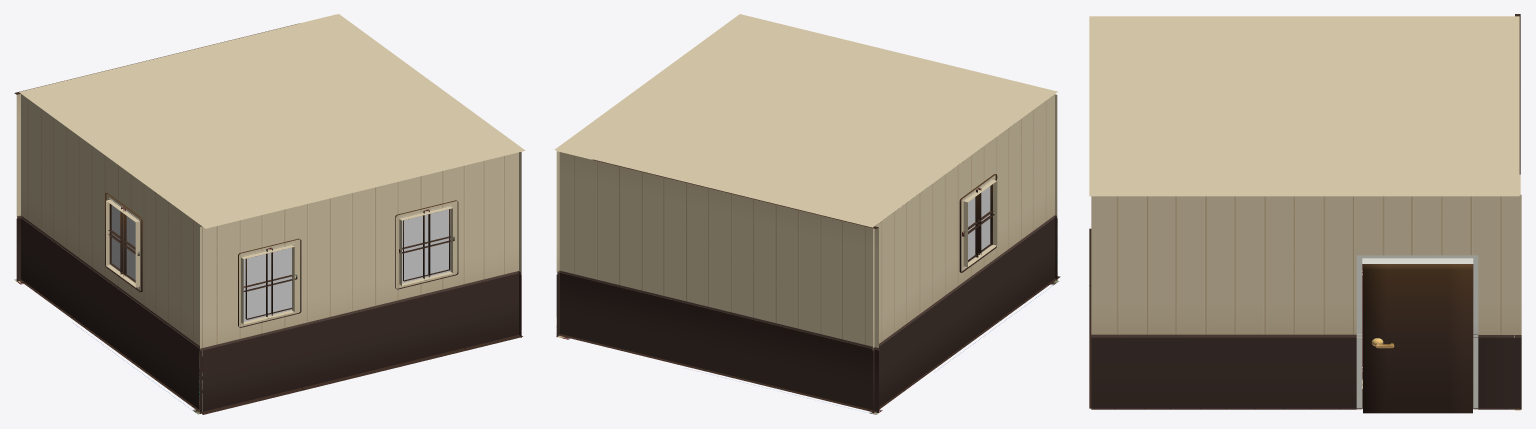
Rendered from mesh_room_004.fbx.
The picture shows the model from 3 angles, left to right: view 1: azimuth 30°, elevation 25°; view 2: azimuth 150°, elevation 25°; view 3: azimuth 270°, elevation 25°; orthographic projection. The views are drawn at different scales.
Visible parts, largest first — view 1: walls_w_floor, ceiling_dion, glass, windows; view 2: walls_w_floor, ceiling_dion, windows, glass; view 3: ceiling_dion, walls_w_floor, door.
Part boxes in pixels (x1,y1,x2,y2): walls_w_floor: [14, 14, 522, 414]; ceiling_dion: [19, 14, 525, 228]; glass: [109, 198, 451, 324]; windows: [105, 192, 458, 327]; walls_w_floor: [556, 94, 1060, 414]; ceiling_dion: [554, 14, 1057, 227]; windows: [959, 174, 997, 272]; glass: [962, 179, 992, 269]; ceiling_dion: [1089, 16, 1519, 196]; walls_w_floor: [1089, 14, 1521, 410]; door: [1363, 264, 1472, 413].
Size of the model in its own units: 1082 by 574 by 1043.
